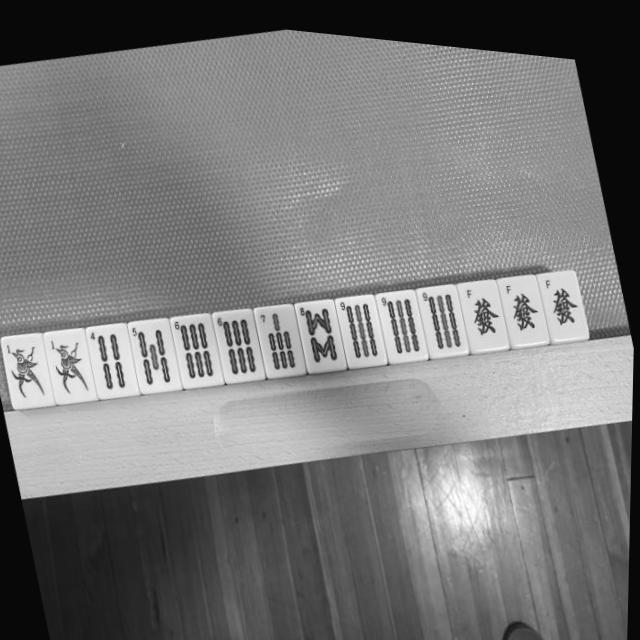hdg: (497, 260, 552, 340), (537, 254, 591, 335), (457, 266, 512, 344)
sb1: (0, 328, 56, 412), (45, 325, 98, 404)
sb4: (85, 318, 142, 398)
sb5: (128, 312, 185, 393)
sb6: (213, 300, 268, 382), (171, 306, 227, 386)
sb7: (253, 295, 308, 375)
sb8: (295, 289, 349, 368)
sb9: (417, 271, 472, 352), (376, 278, 431, 358), (335, 284, 389, 364)
